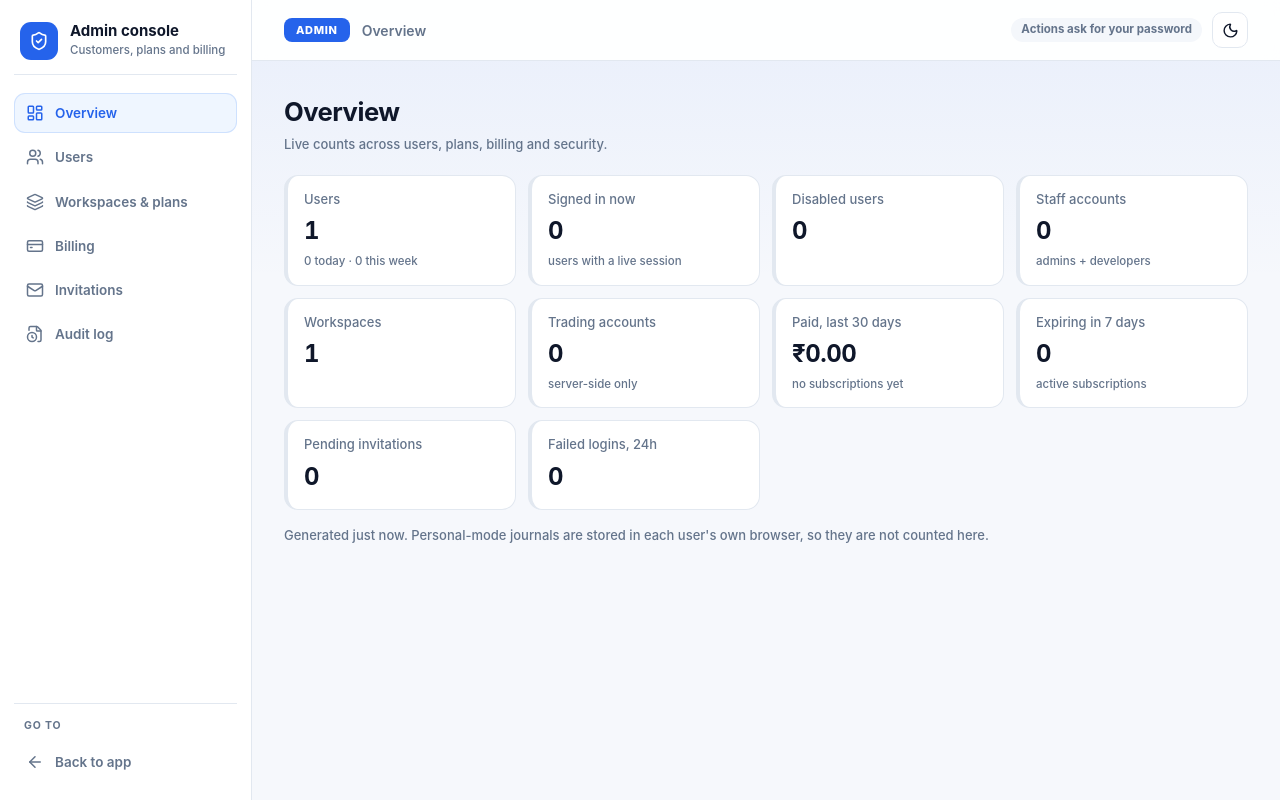
Test case: Billing: Needs attention › says all clear when nothing is wrong
Click the tab "Billing" at (126, 246), box [14,226,237,266]
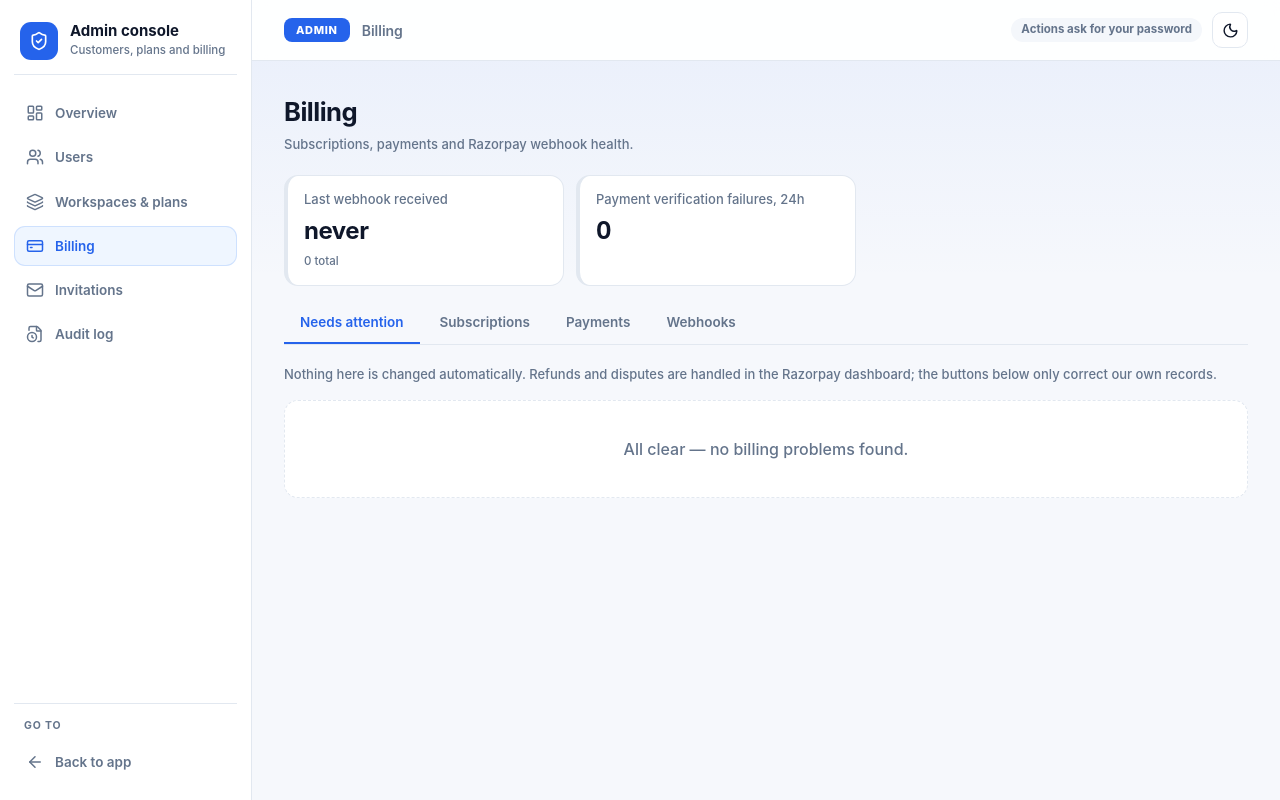
Expected: the text "All clear" is shown, [624,439,908,459]
